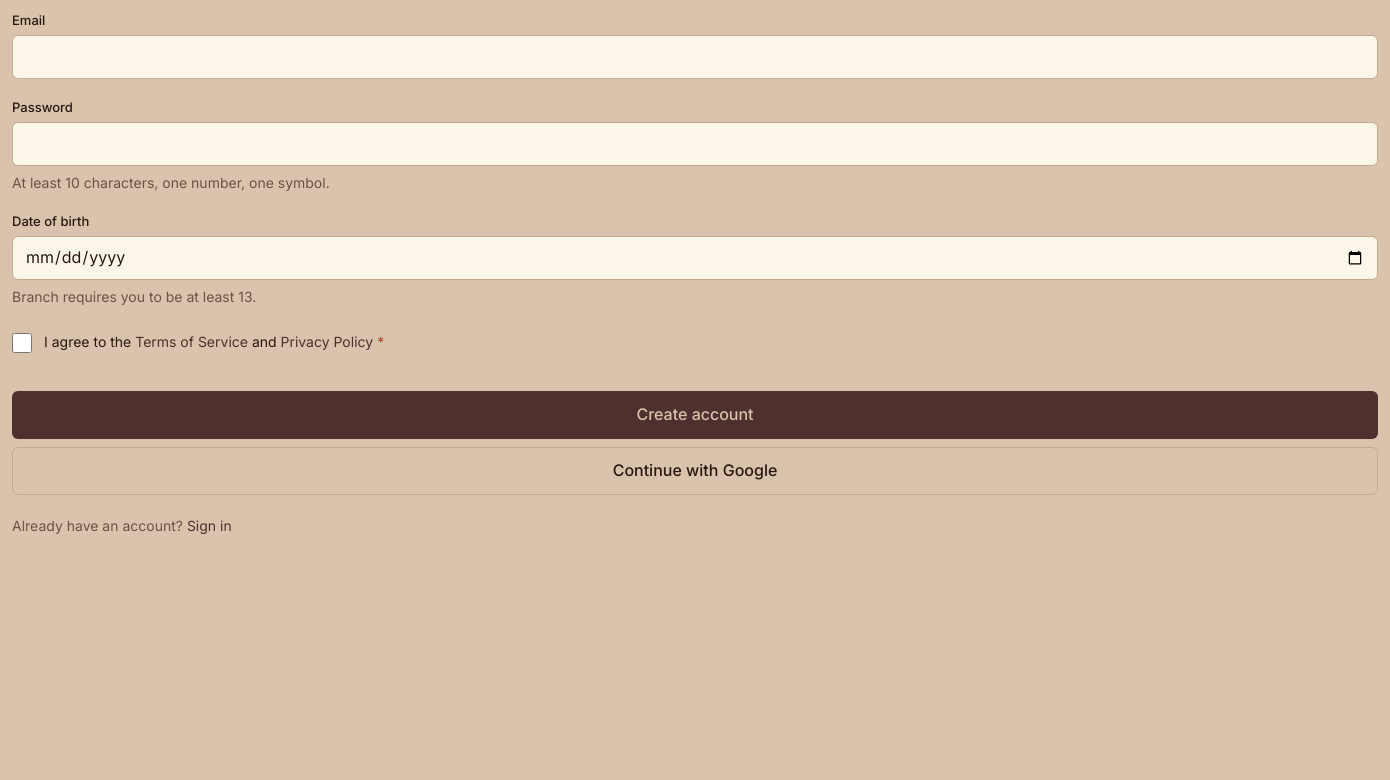
SignUpForm › rejects passwords missing a symbol
Type "alice@example.com" into the field labelled "Email" at (695, 57), box [12, 35, 1378, 79]
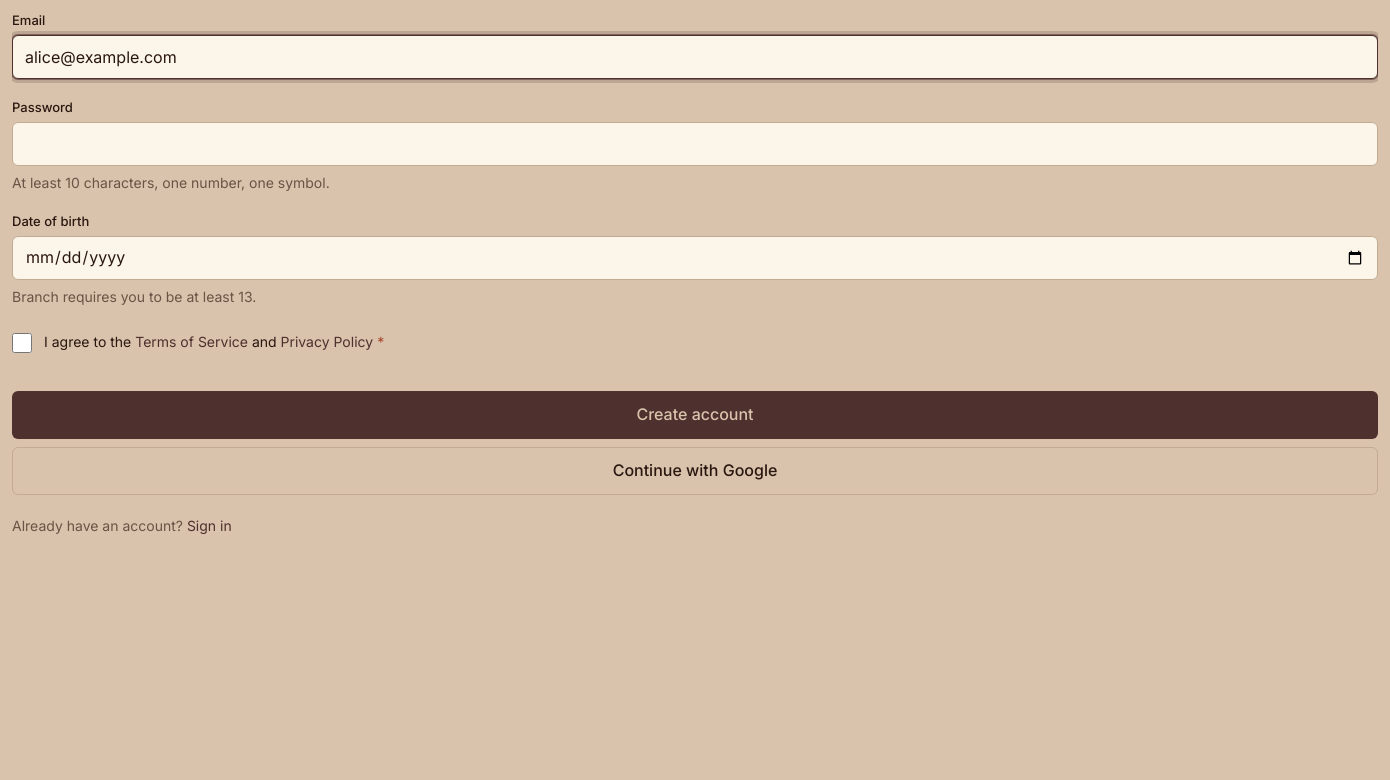
Type "noSymbol12345" into the password field labelled "Password" at (695, 144), box [12, 122, 1378, 166]
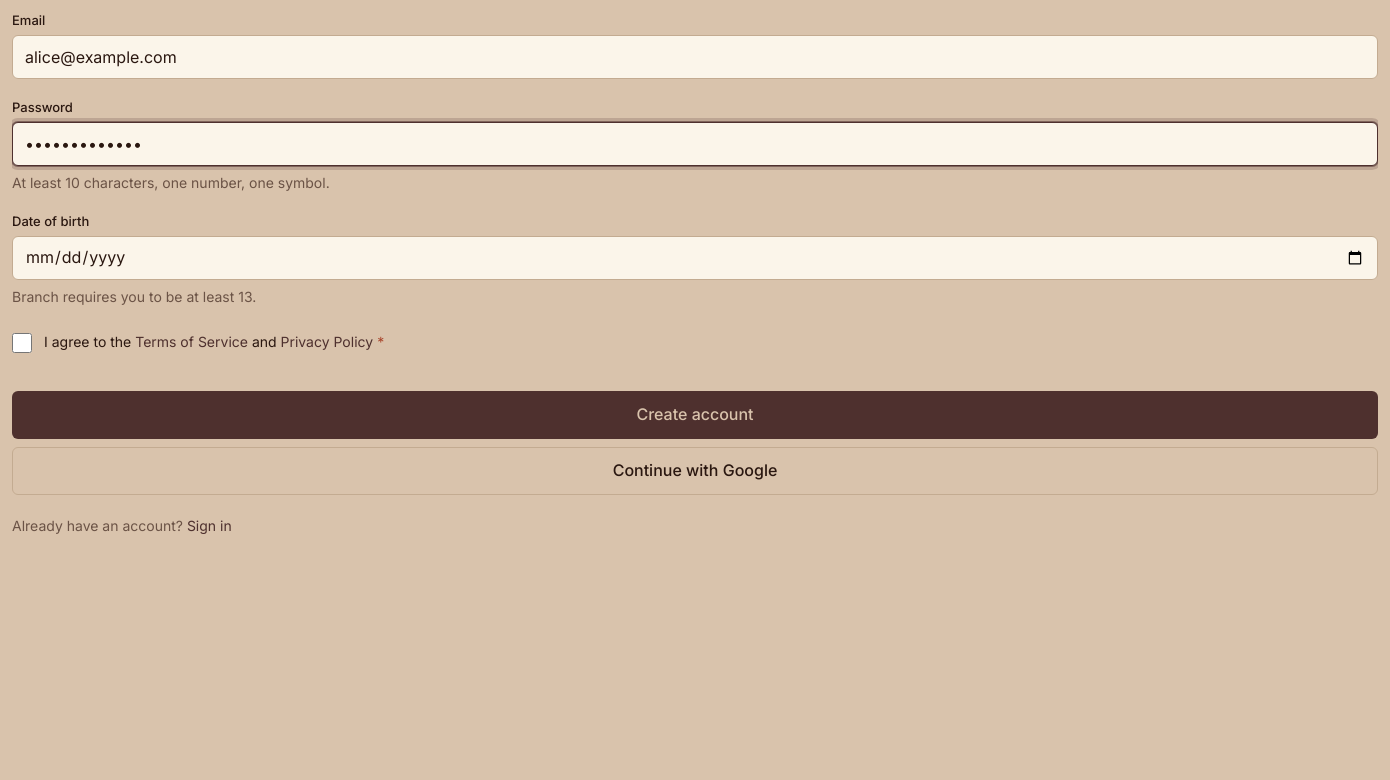
Click the button "Create account" at (695, 415), box [12, 391, 1378, 439]
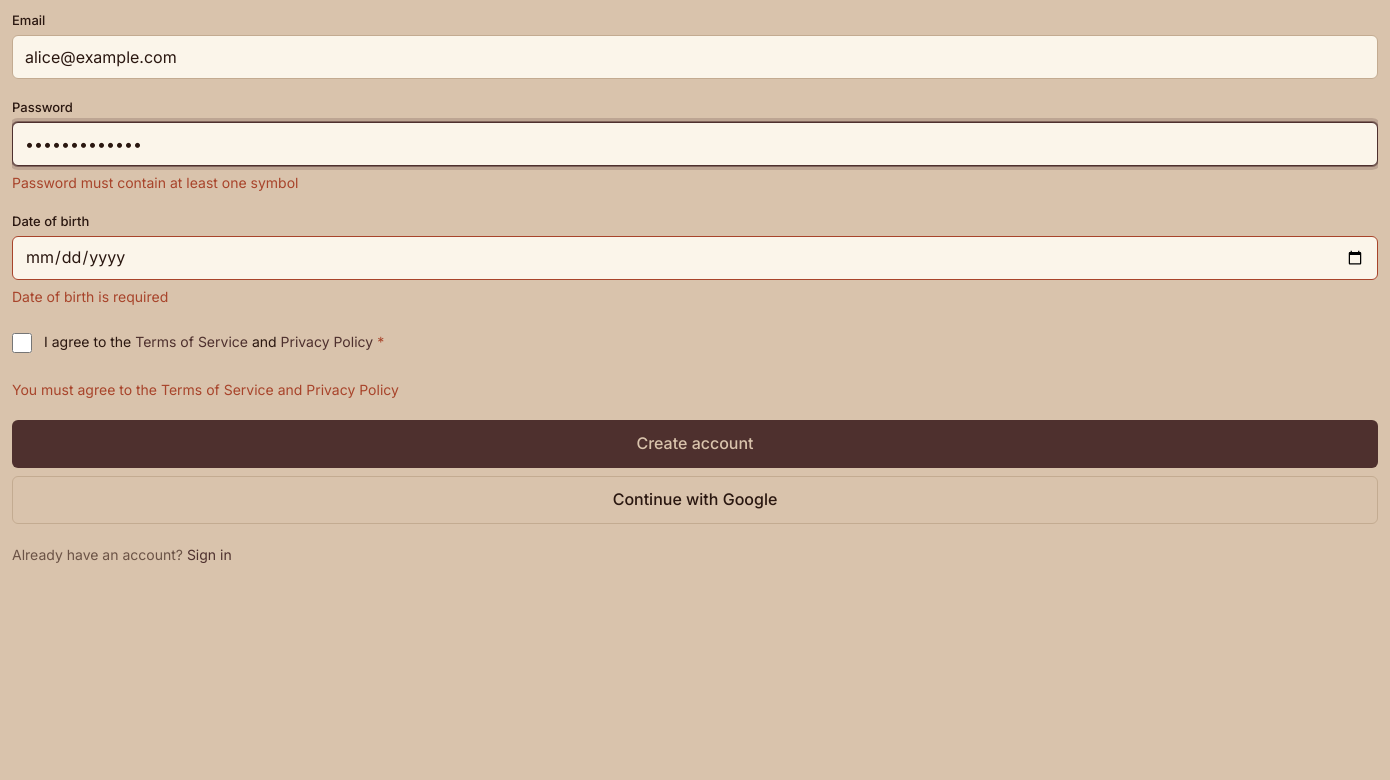
Now the text "Password must contain at least one symbol" is shown, box [12, 174, 298, 191]
